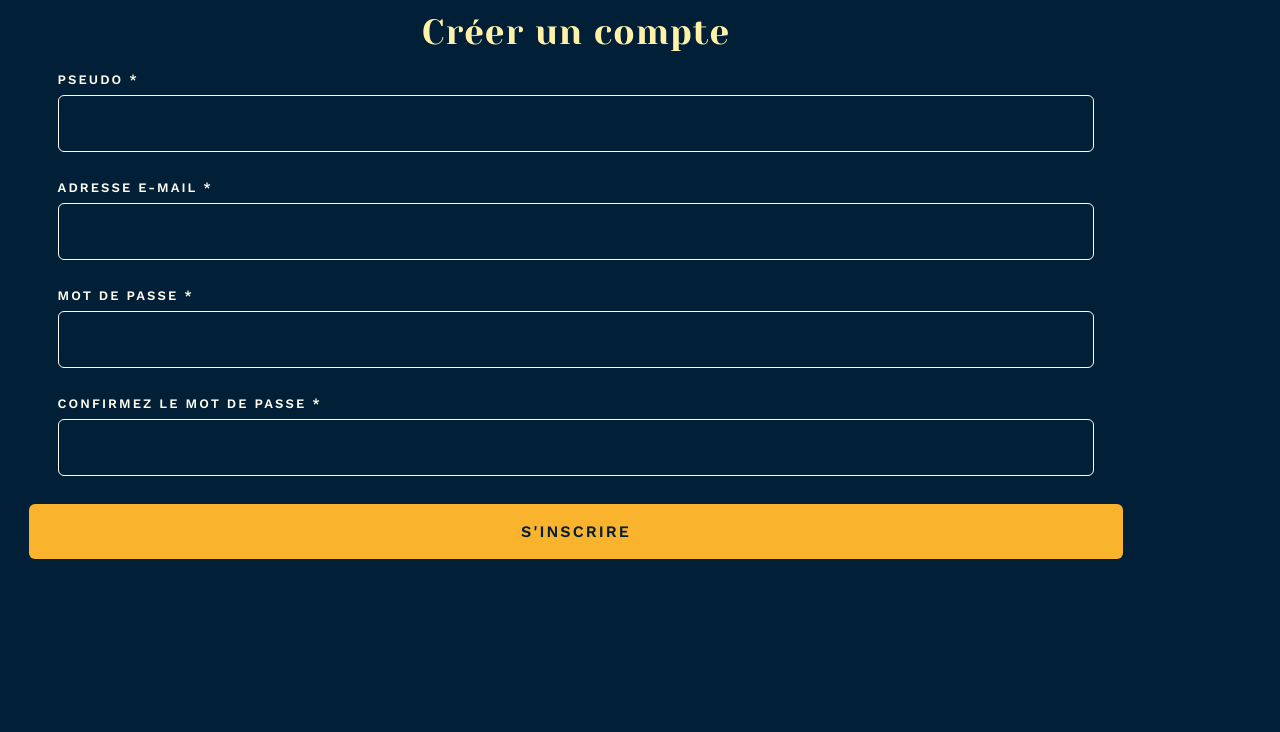
it: AccountCreation component tests › should set already existing account error
Type "TonySoprano" into the field labelled "Pseudo *".
click(576, 124); type("TonySoprano")  # box [58,95,1094,152]
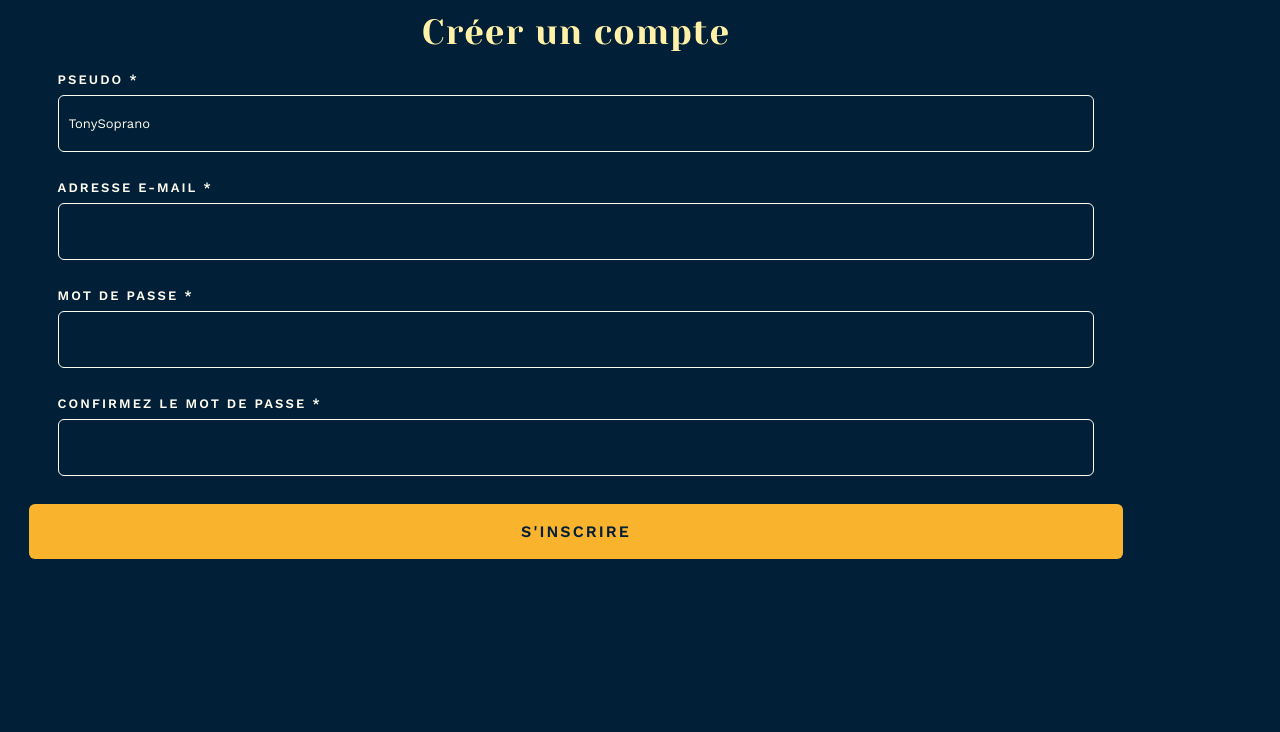
Type "test@mail.com" into the field labelled "Adresse e-mail *".
click(576, 232); type("test@mail.com")  # box [58,203,1094,260]
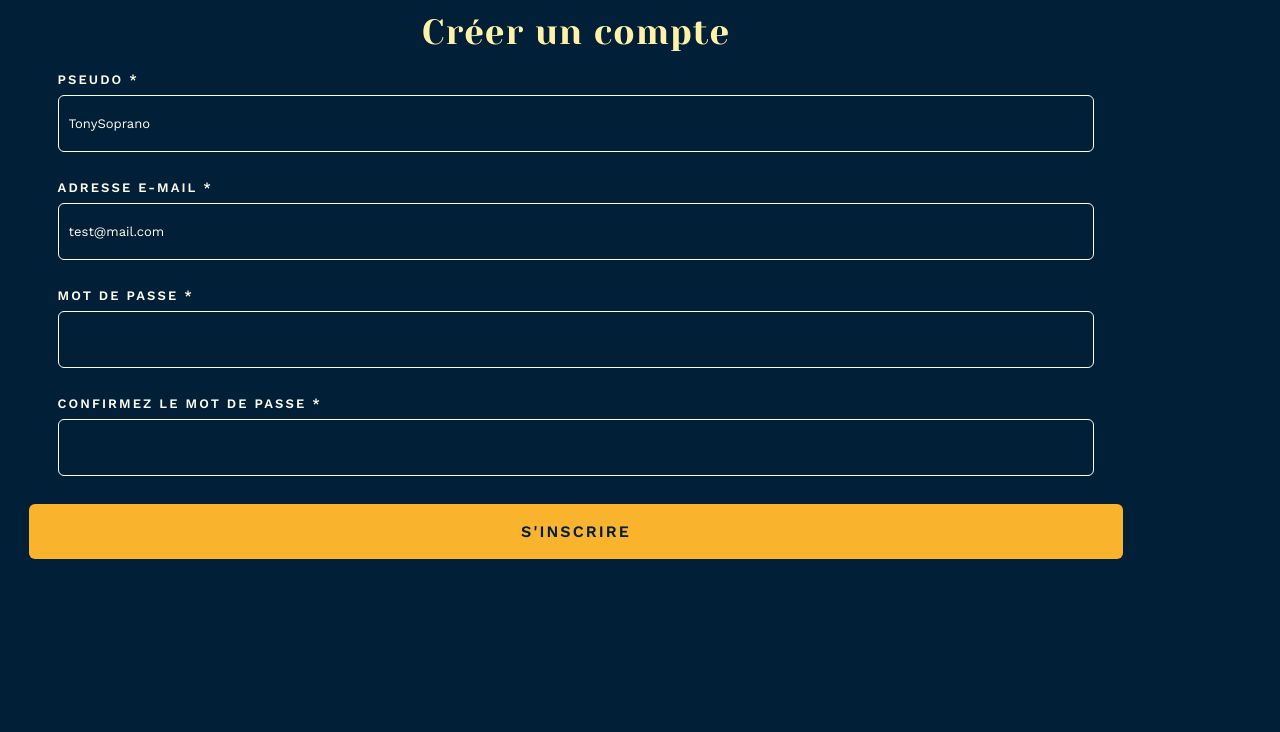
Submit the form from the button "S'inscrire", box [29,504,1123,559]
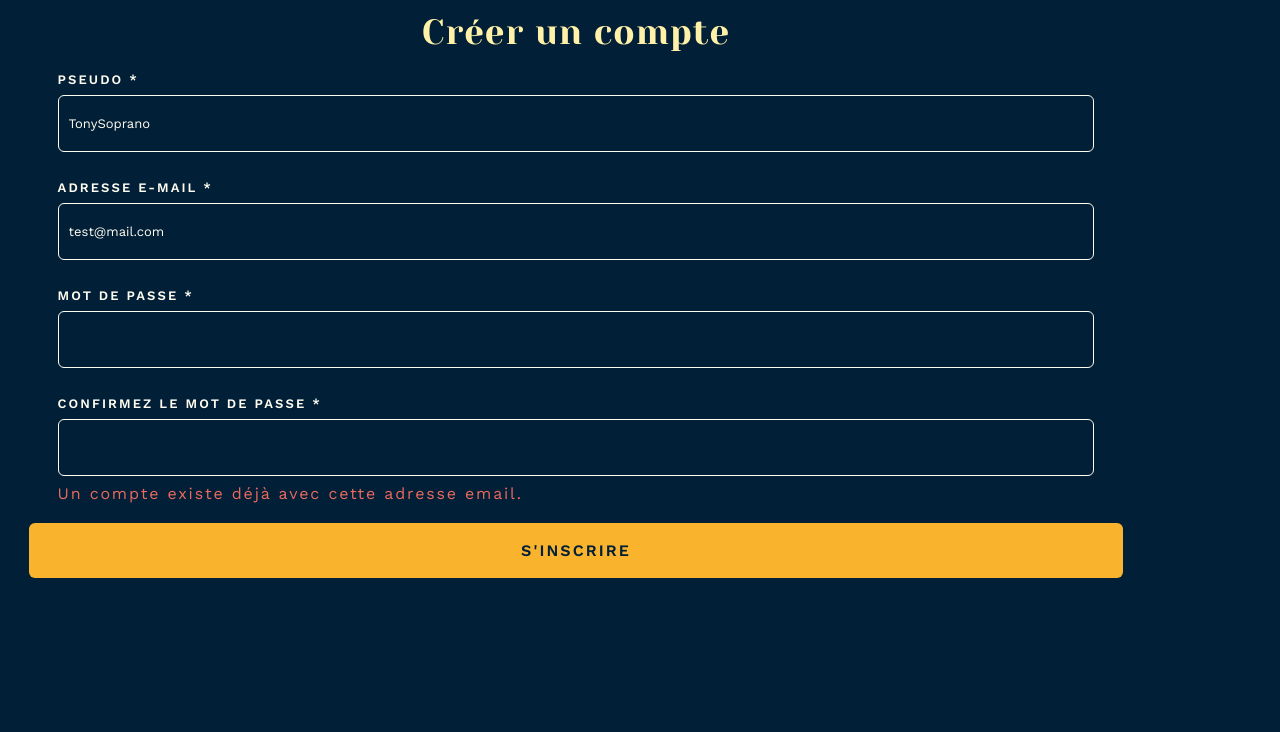
Check: the text "Un compte existe déjà avec cette adresse email." is shown, box [58,484,523,503]
